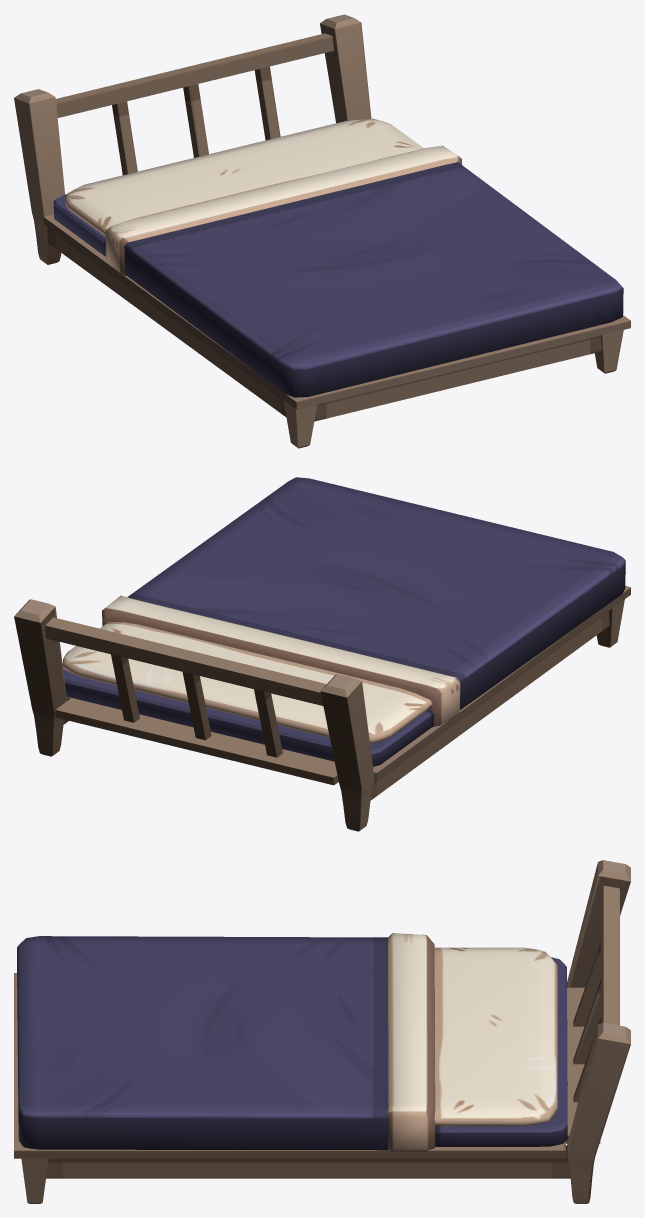
File: housepack_bed_2.FBX
3 views of the same model, one above another, from view 1: azimuth 30°, elevation 25°; view 2: azimuth 150°, elevation 25°; view 3: azimuth 270°, elevation 25° (orthographic). The views are drawn at different scales.
Visible parts, largest first — view 1: housepack_bed_2; view 2: housepack_bed_2; view 3: housepack_bed_2.
Part boxes in pixels (left/top/right/bottom): housepack_bed_2: left=14, top=14, right=630, bottom=448; housepack_bed_2: left=14, top=477, right=630, bottom=831; housepack_bed_2: left=14, top=860, right=630, bottom=1203.
Size of the model in its own units: 103 by 45.62 by 147.
